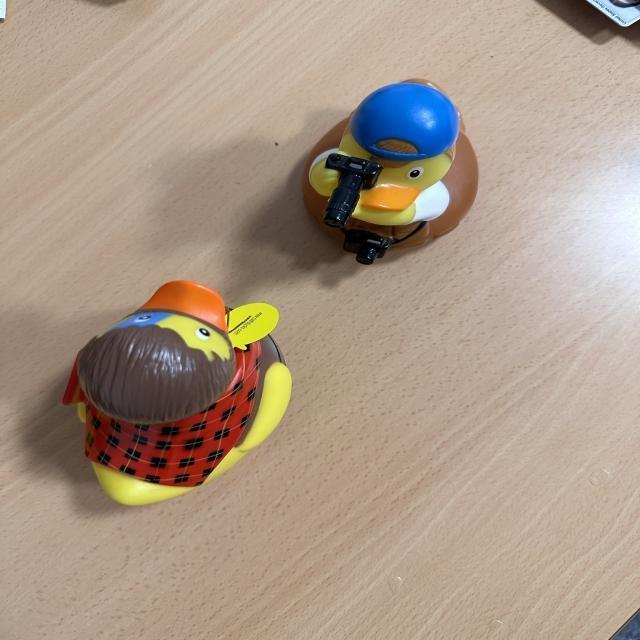rubber-duck: (62, 279, 290, 503), (303, 80, 476, 262)
